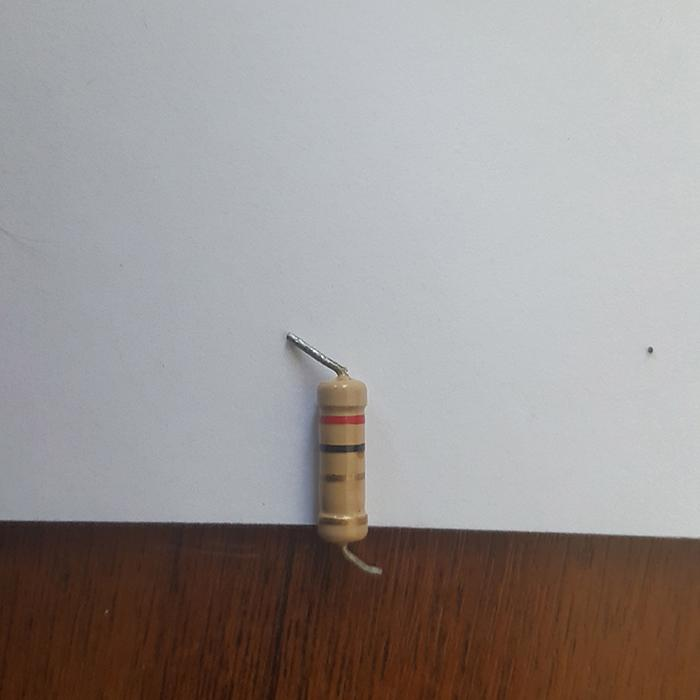resistor: (314, 373, 368, 542)
